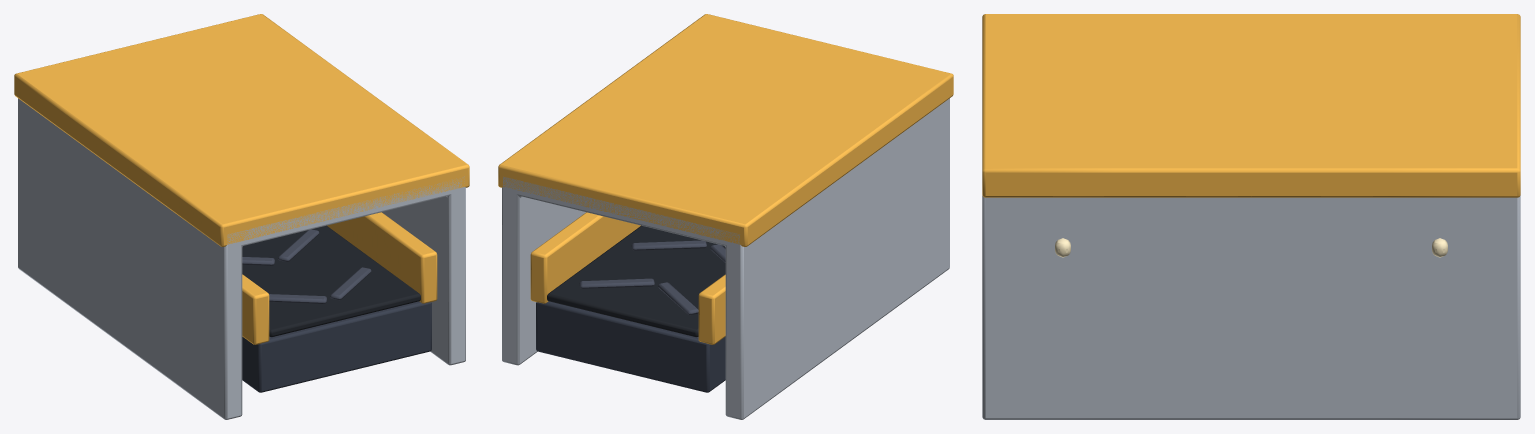
Rendered from zulauf_tunnel.fbx.
The picture shows the model from 3 angles, left to right: view 1: azimuth 30°, elevation 25°; view 2: azimuth 150°, elevation 25°; view 3: azimuth 270°, elevation 25°; orthographic projection. The views are drawn at different scales.
Parts seen in each view (by area): view 1: zulauf_tunnel_Koerper; view 2: zulauf_tunnel_Koerper; view 3: zulauf_tunnel_Koerper.
Part boxes in pixels (x1,y1,x2,y2): zulauf_tunnel_Koerper: (14,14,469,419); zulauf_tunnel_Koerper: (498,14,953,419); zulauf_tunnel_Koerper: (982,14,1520,419).
Bounding box in the file's own units: 1.41 × 1.04 × 2.
